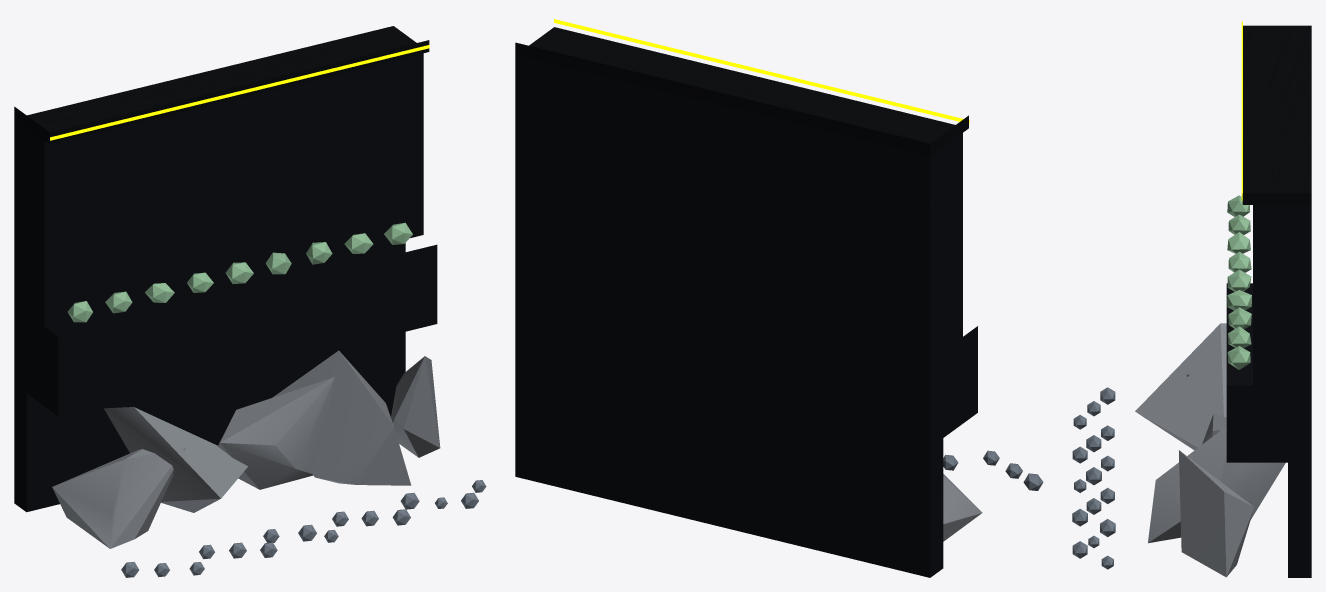
3 renders of one model, left to right at view 1: azimuth 30°, elevation 25°; view 2: azimuth 150°, elevation 25°; view 3: azimuth 270°, elevation 25°, orthographic. The views are drawn at different scales.
Parts seen in each view (by area): view 1: Upper_Courses, River_Boulders, Skirt_Core, Coping, Terrace_Moss, River_Pebbles, Coping_Court_Line; view 2: Skirt_Core, Coping, Upper_Courses, Coping_Court_Line, River_Boulders, River_Pebbles; view 3: River_Boulders, Coping, Upper_Courses, Skirt_Core, Terrace_Moss, River_Pebbles, Coping_Court_Line.
Part boxes in pixels (x1,y1,x2,y2): Upper_Courses: [26, 53, 437, 416]; River_Boulders: [52, 350, 440, 548]; Skirt_Core: [14, 34, 405, 512]; Coping: [14, 26, 429, 144]; Terrace_Moss: [67, 222, 412, 322]; River_Pebbles: [121, 480, 486, 577]; Coping_Court_Line: [50, 45, 429, 140]; Skirt_Core: [515, 55, 943, 577]; Coping: [515, 27, 968, 155]; Upper_Courses: [943, 132, 977, 437]; Coping_Court_Line: [554, 19, 969, 123]; River_Boulders: [943, 474, 982, 541]; River_Pebbles: [943, 450, 1043, 490]; River_Boulders: [1135, 323, 1285, 577]; Coping: [1242, 25, 1311, 204]; Upper_Courses: [1226, 204, 1288, 462]; Skirt_Core: [1288, 204, 1311, 577]; Terrace_Moss: [1227, 195, 1251, 369]; River_Pebbles: [1072, 387, 1115, 569]; Coping_Court_Line: [1241, 21, 1242, 200].
Size of what is drawn, in the model's own units: 4 by 4 by 2.25.
6 materials, 3 textured.
